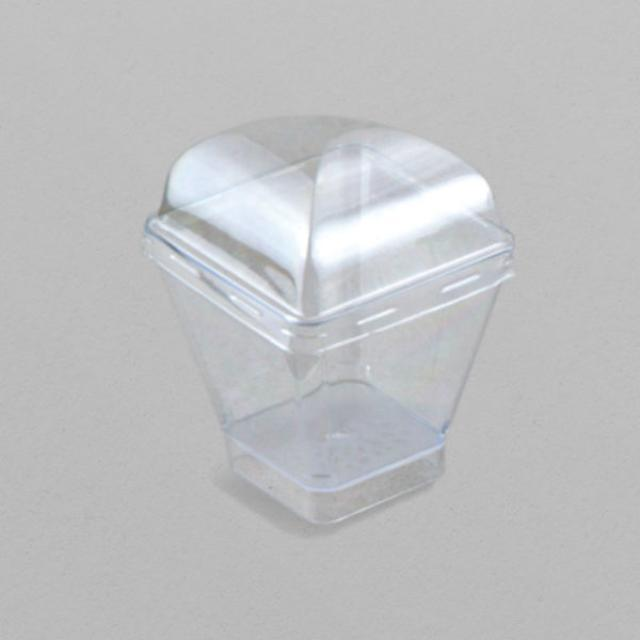Recipiente plastico: (145, 118, 514, 524)
